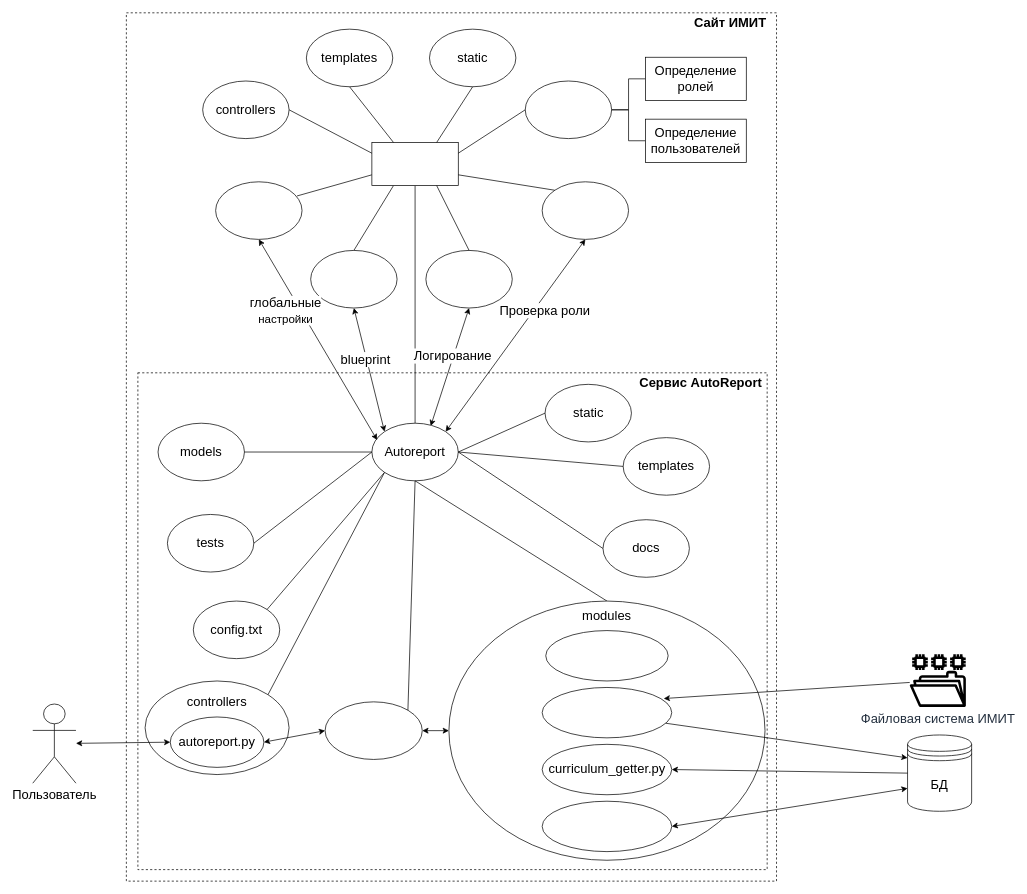
Some shapes in this 1027 by 894 pixel diagram are drawn without their labels. Here are the shapes that lost their labels. From the top down, the box of each, then its label:
(525, 80, 612, 139): models.py
(371, 142, 458, 186): imit
(215, 181, 302, 239): config.py
(541, 181, 629, 239): utils.py
(310, 250, 397, 308): __init__.py
(425, 250, 512, 308): * LOG_FILE*
(545, 630, 668, 681): report_generator.py
(324, 701, 422, 759): funcs.py
(541, 687, 672, 738): curriculum_parser.py
(541, 800, 672, 852): report_state.py
